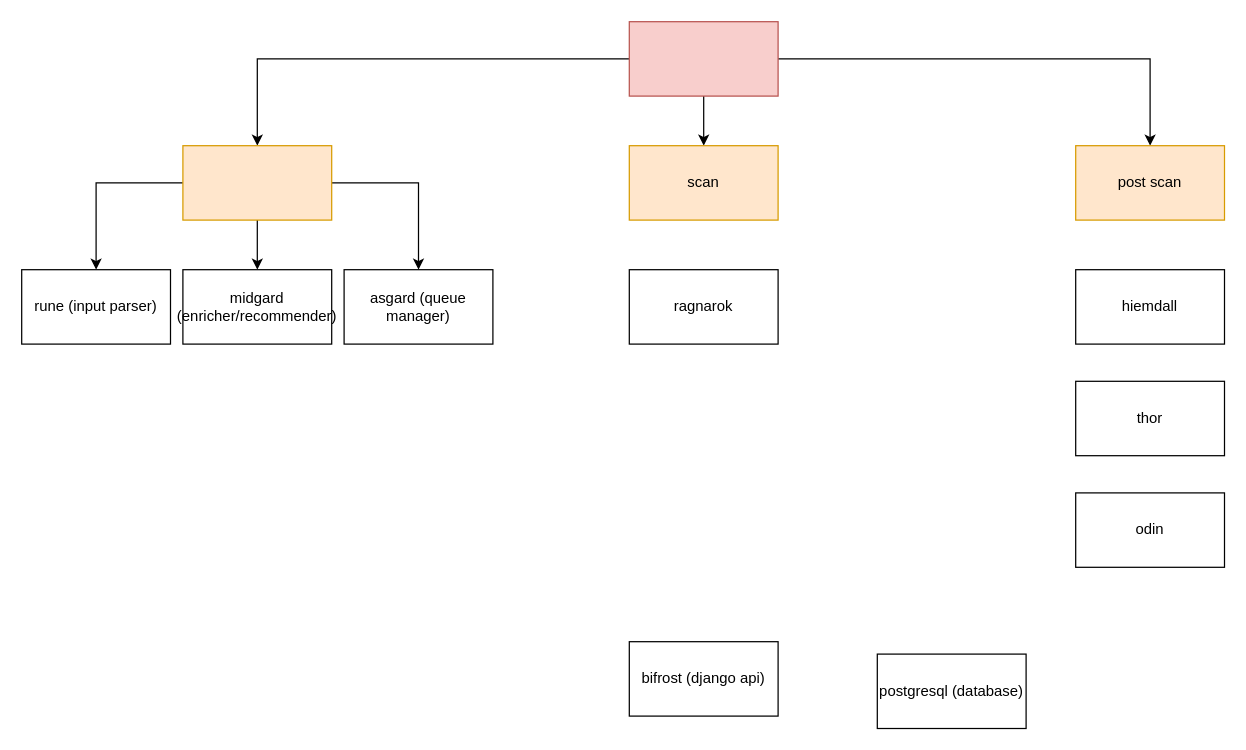
Image size: 1246x750. Some labels were removed from this diagram. Each missing label, with the box of its shape:
bolt: (628, 20, 778, 96)
pre scan: (182, 144, 332, 220)
